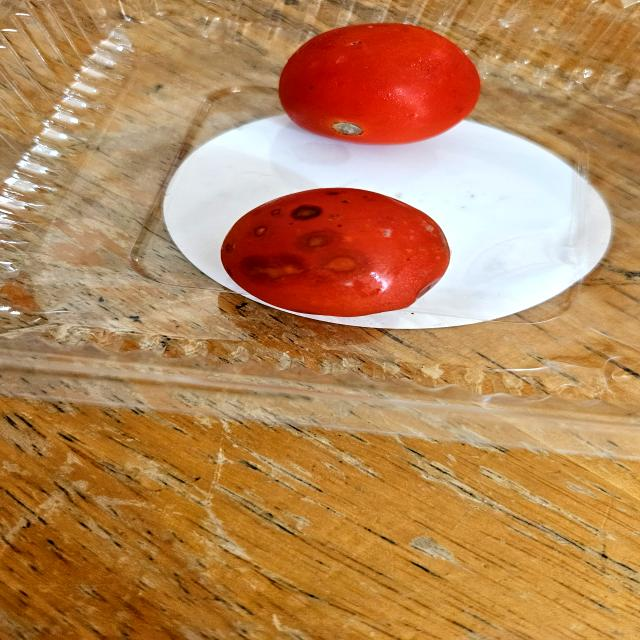rot_lvl1: (238, 230, 370, 283), (291, 206, 322, 219), (251, 224, 270, 238), (268, 206, 280, 216)
